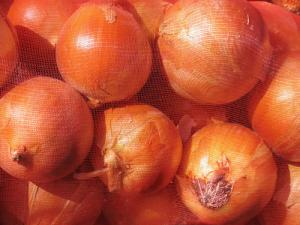onion: (152, 1, 272, 103), (174, 120, 280, 224), (0, 74, 96, 186), (56, 1, 151, 110)
